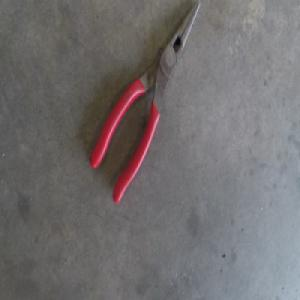Pliers: (89, 1, 200, 200)
